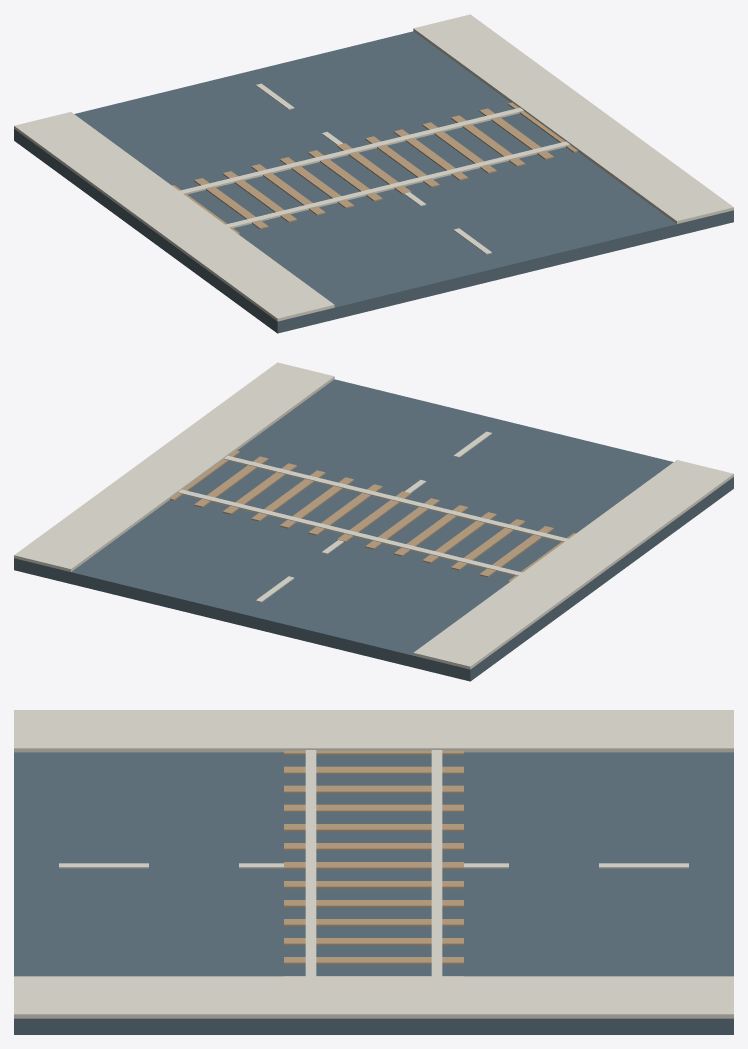
File: voxel-city-districts-road-rail-crossing-bd5841c0__24822.glb
3 views of the same model, one above another, from view 1: azimuth 30°, elevation 25°; view 2: azimuth 150°, elevation 25°; view 3: azimuth 270°, elevation 25° (orthographic). The views are drawn at different scales.
Visible parts, largest first — view 1: road-rail-crossing-dark, road-rail-crossing-concrete, road-rail-crossing-wood; view 2: road-rail-crossing-dark, road-rail-crossing-concrete, road-rail-crossing-wood; view 3: road-rail-crossing-dark, road-rail-crossing-concrete, road-rail-crossing-wood.
Boxes of the visible parts, <box> form: road-rail-crossing-dark: <box>14,31,733,333</box>; road-rail-crossing-concrete: <box>14,14,733,321</box>; road-rail-crossing-wood: <box>172,102,577,234</box>; road-rail-crossing-dark: <box>14,379,733,681</box>; road-rail-crossing-concrete: <box>14,362,733,669</box>; road-rail-crossing-wood: <box>170,450,575,582</box>; road-rail-crossing-dark: <box>14,752,733,1034</box>; road-rail-crossing-concrete: <box>14,710,733,1018</box>; road-rail-crossing-wood: <box>284,750,463,976</box>.
Size of the model in its own units: 8 by 0.25 by 8.
